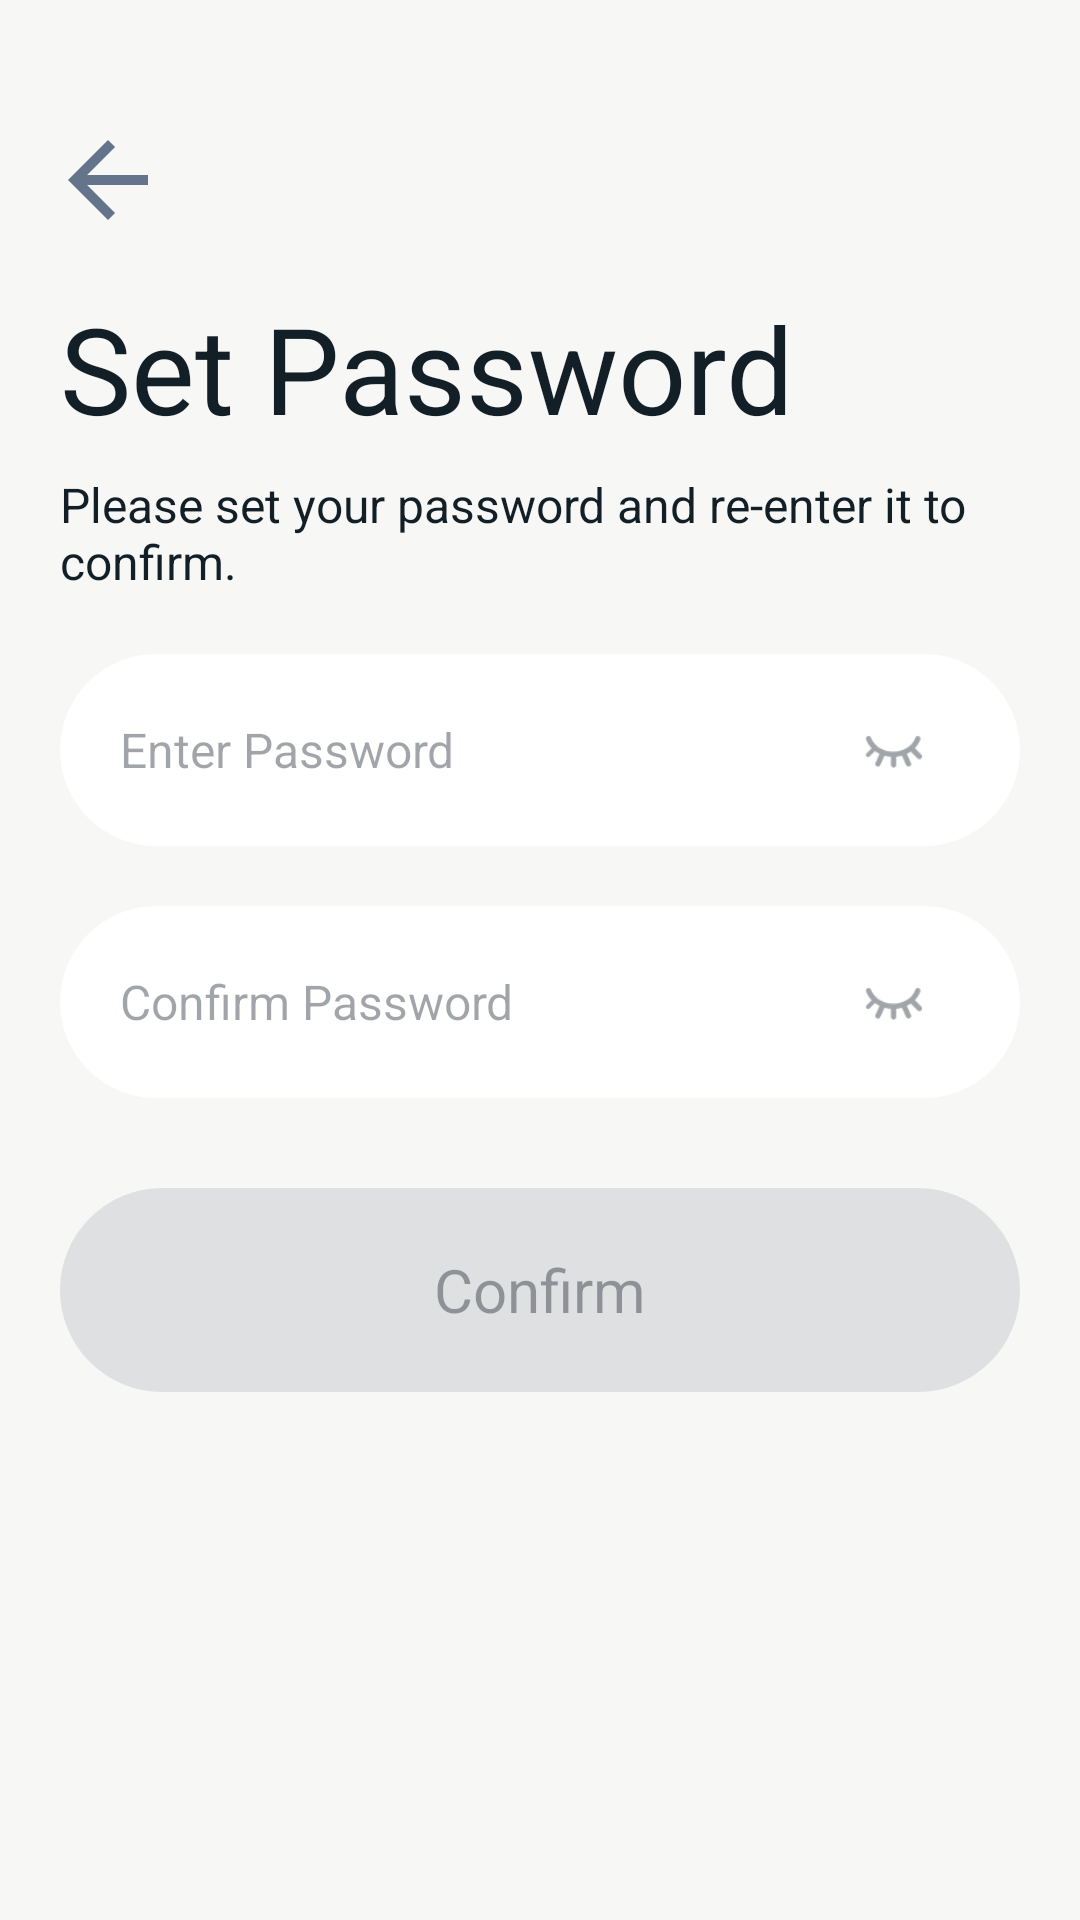

Locate icon controls on the screen. Image size 1080*1920, boxes as (x1, y1, x2, y2).
arrow back: (68, 140, 148, 220)
